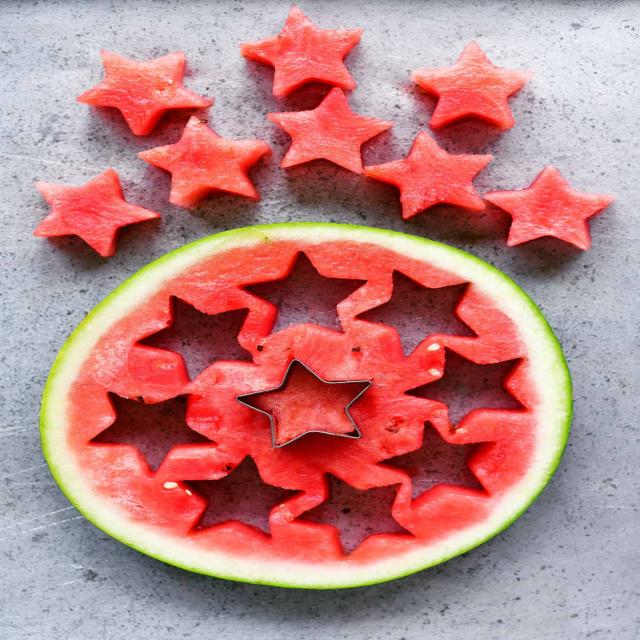watermelon: (38, 220, 570, 594)
